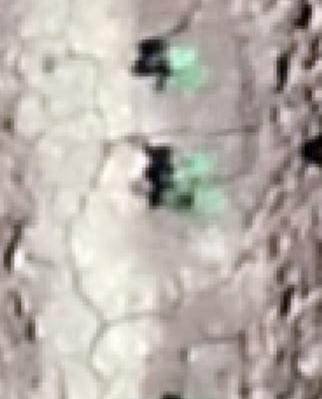cotton: (184, 184, 219, 210), (178, 154, 212, 177), (170, 48, 201, 73), (166, 176, 197, 196), (180, 68, 204, 88)
